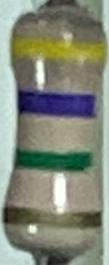Blue: (17, 87, 95, 117)
Green: (17, 148, 92, 171)
Side-Silver: (5, 205, 102, 231)
Yellow: (13, 41, 106, 64)
